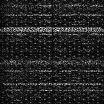lte: (1, 26, 104, 32), (1, 13, 104, 17), (1, 81, 103, 85)
